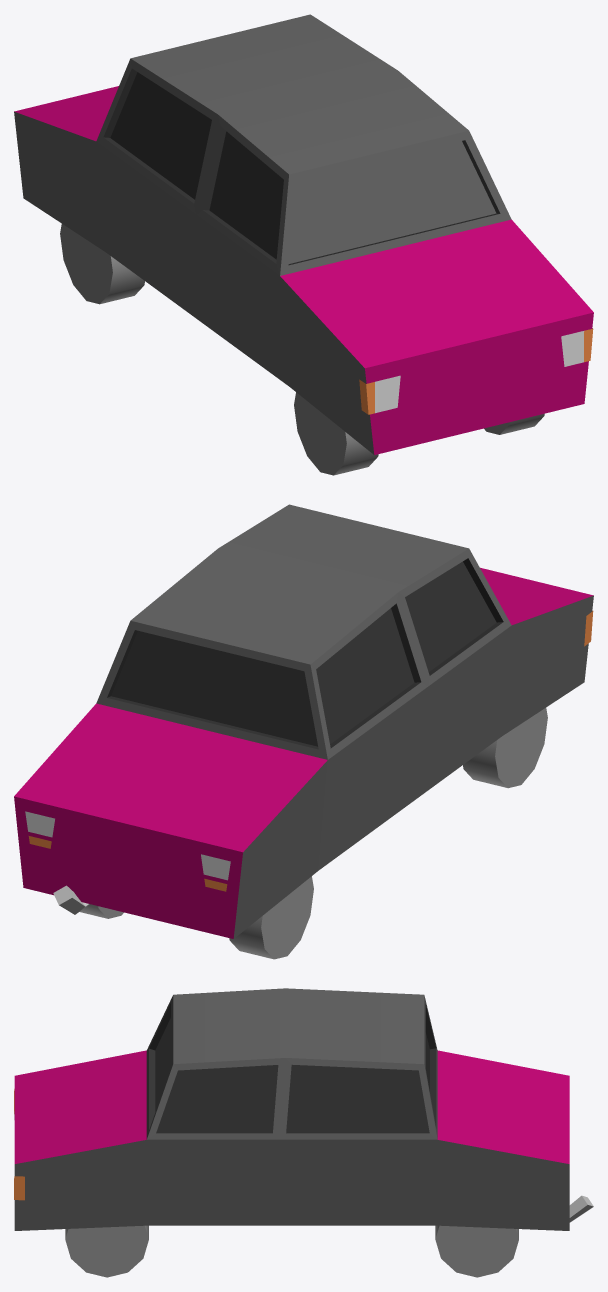
Rendered from car_mixed_15.fbx.
3 views of the same model, one above another, from view 1: azimuth 30°, elevation 25°; view 2: azimuth 150°, elevation 25°; view 3: azimuth 270°, elevation 25° (orthographic). The views are drawn at different scales.
Parts seen in each view (by area): view 1: car_mixed_15; view 2: car_mixed_15; view 3: car_mixed_15.
Boxes of the visible parts, box(x1,y1,x2,y2) form: car_mixed_15: box(14, 14, 593, 475); car_mixed_15: box(14, 504, 593, 959); car_mixed_15: box(14, 988, 593, 1277).
Size of the model in its own units: 1.6 by 1.8 by 4.39.
